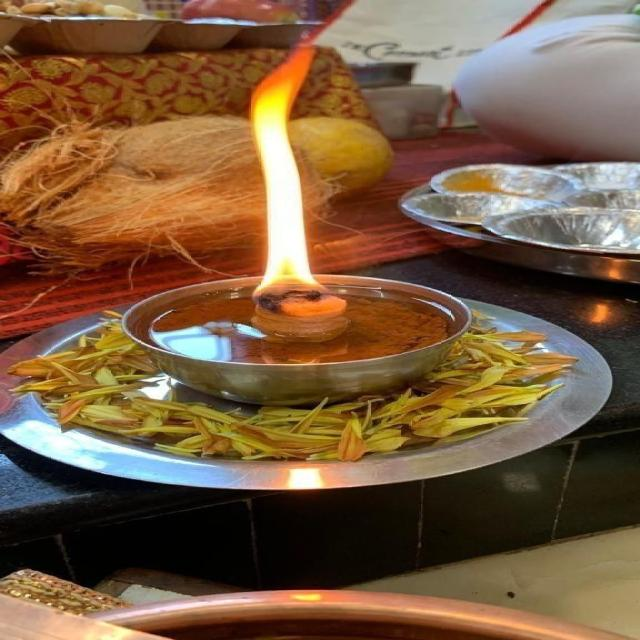fire: (246, 41, 324, 299)
